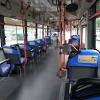seat: (5, 44, 28, 69)
